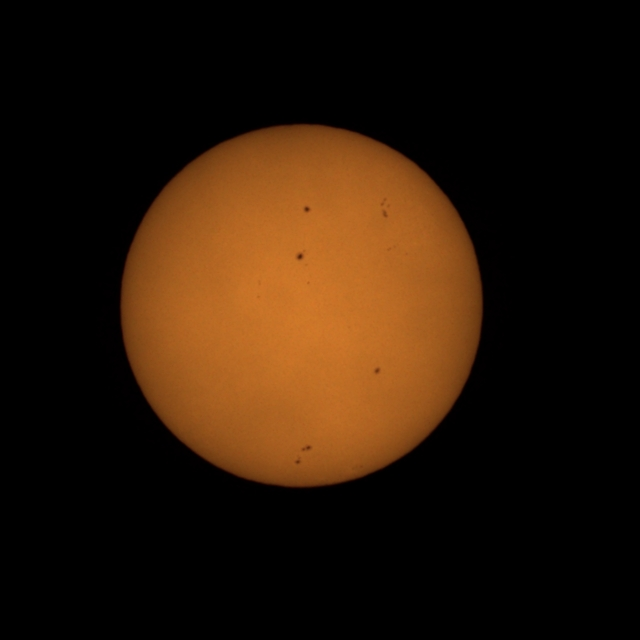sunspot: (294, 444, 313, 465), (386, 244, 410, 256), (380, 197, 392, 219), (295, 248, 307, 263), (300, 444, 313, 453), (302, 205, 312, 214), (373, 366, 382, 376), (386, 245, 394, 252), (257, 279, 262, 287), (256, 294, 261, 299), (306, 280, 310, 285)
